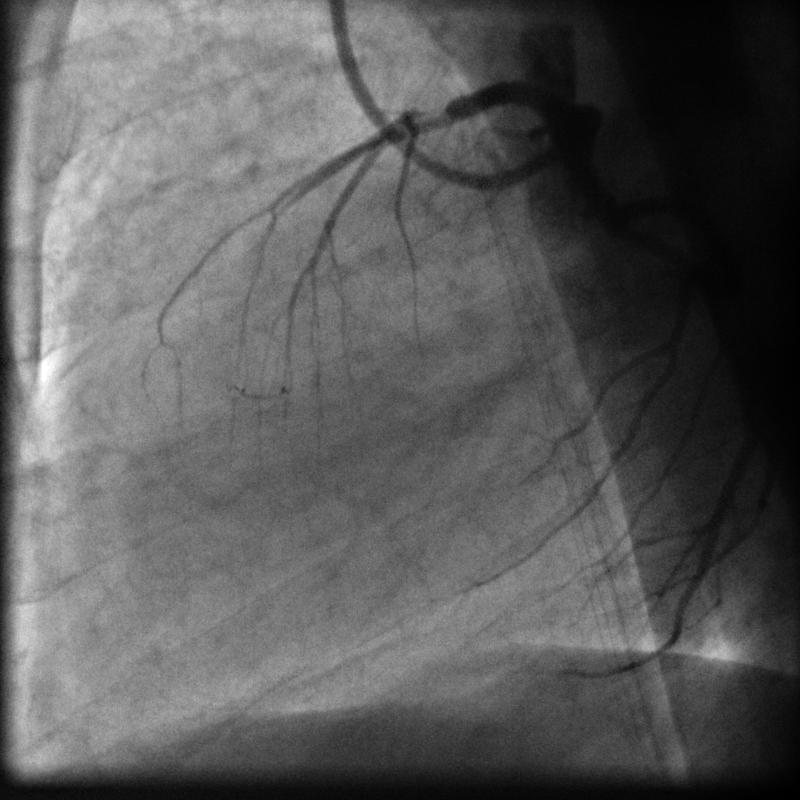Stenosis: (400, 101, 456, 141)
